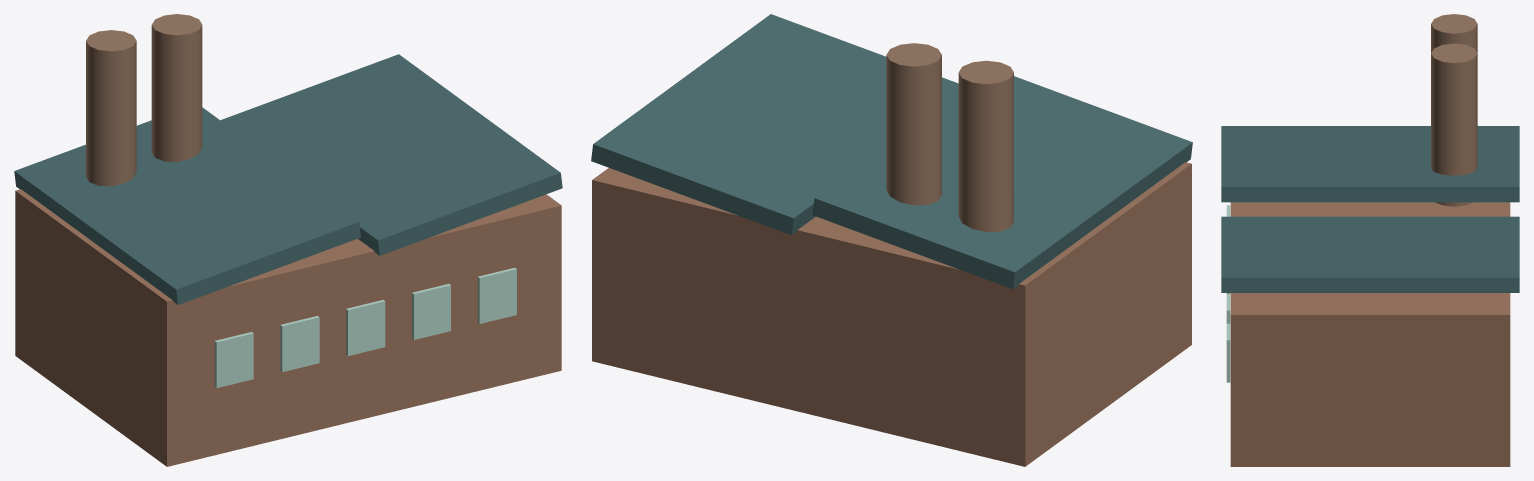
Rendered from factory.glb.
The picture shows the model from 3 angles, left to right: view 1: azimuth 30°, elevation 25°; view 2: azimuth 150°, elevation 25°; view 3: azimuth 270°, elevation 25°; orthographic projection. The views are drawn at different scales.
Parts seen in each view (by area): view 1: factory (×10); view 2: factory (×5); view 3: factory (×5).
Boxes of the visible parts, x1,y1,x2,y2 form: factory (×10): (14, 14, 562, 466); factory (×5): (591, 14, 1192, 466); factory (×5): (1221, 14, 1519, 466).
Bounding box in the file's own units: 9 × 7 × 6.4.
